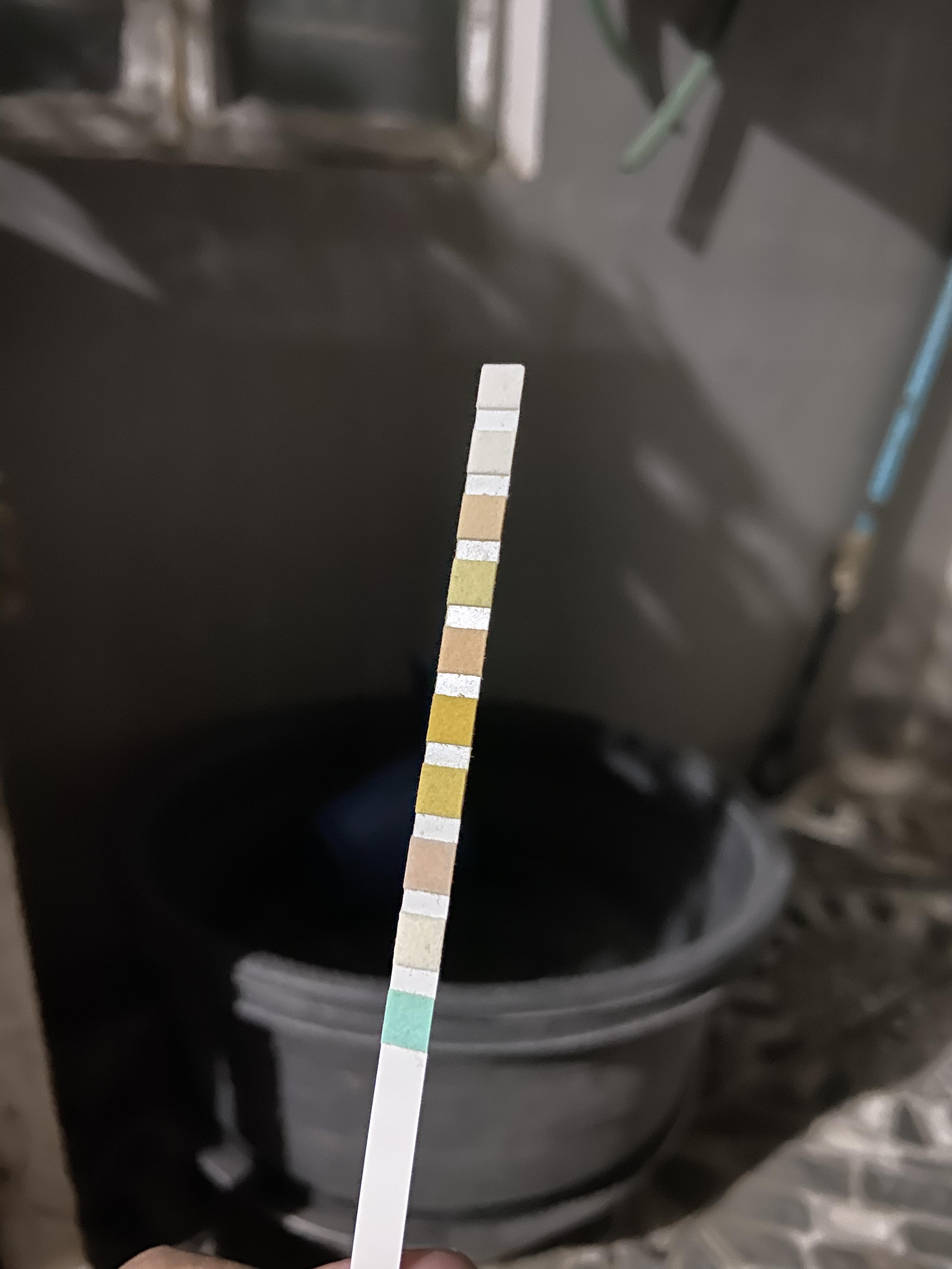Bilirubin: (400, 921, 439, 965)
Blood: (432, 703, 474, 740)
Glucose: (387, 998, 428, 1044)
Ketone: (409, 845, 452, 888)
Leukocytes: (482, 367, 518, 407)
Nitrite: (475, 432, 509, 470)
Protein: (454, 565, 490, 603)
SpGravity: (423, 771, 460, 814)
Urobilinogen: (462, 498, 499, 537)
pH: (445, 632, 481, 670)
strip: (350, 363, 526, 1268)
